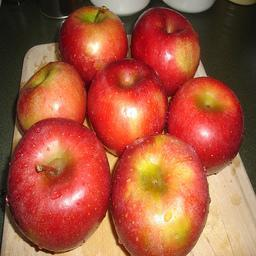apple: (6, 118, 113, 252), (110, 135, 210, 254), (88, 58, 169, 154), (165, 78, 243, 174), (129, 6, 200, 93), (56, 5, 127, 83), (15, 61, 86, 133)
